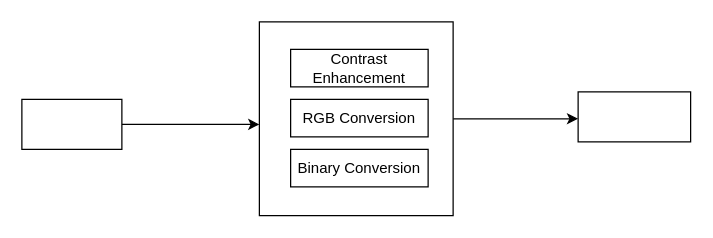
This 713x238 diagram has some shape labels left out. The shapes that lost their labels are listed below. From the top down, each one's box as (x1, y1, x2, y2) in pixels, then its label:
(21, 98, 122, 149): Input
(577, 91, 691, 142): Output
